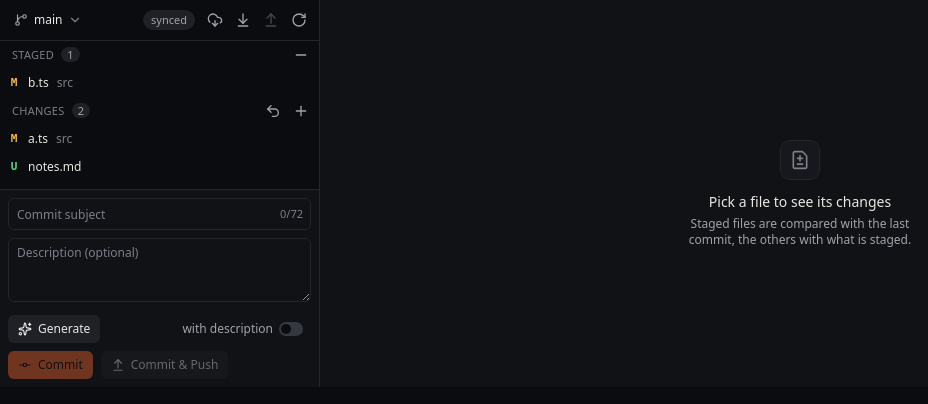
Test case: generating a message › the toggle asks for a description as well
Step 1. Click the switch labelled "with description" → (243, 329), box [174,315,311,343]
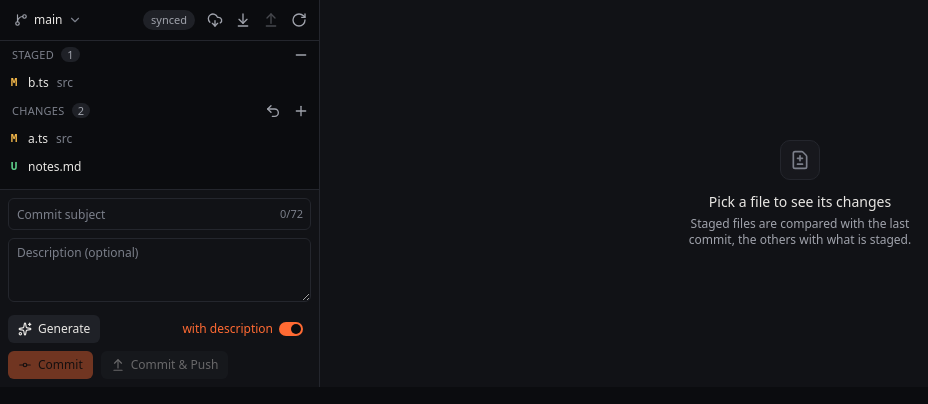
Result: the switch labelled "with description" is checked at [174,315,311,343]
Step 2. Click the button "Generate" → (54, 329), box [8,315,100,343]
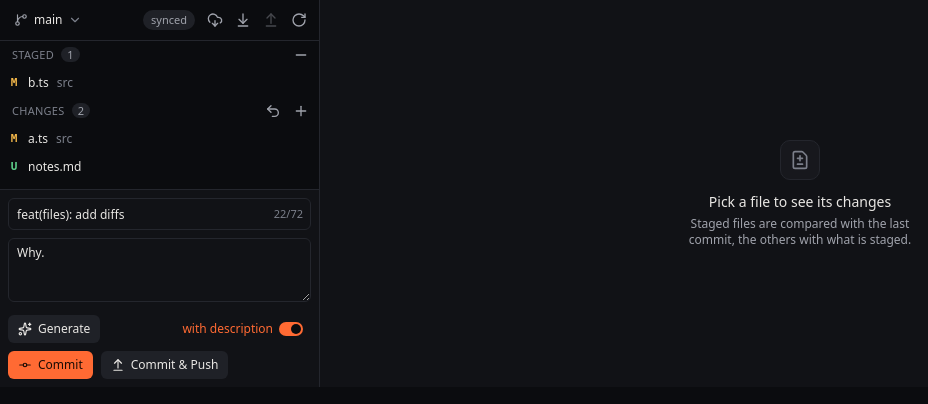
Result: the text box named "Commit description" holds "Why." at [8,238,311,302]
